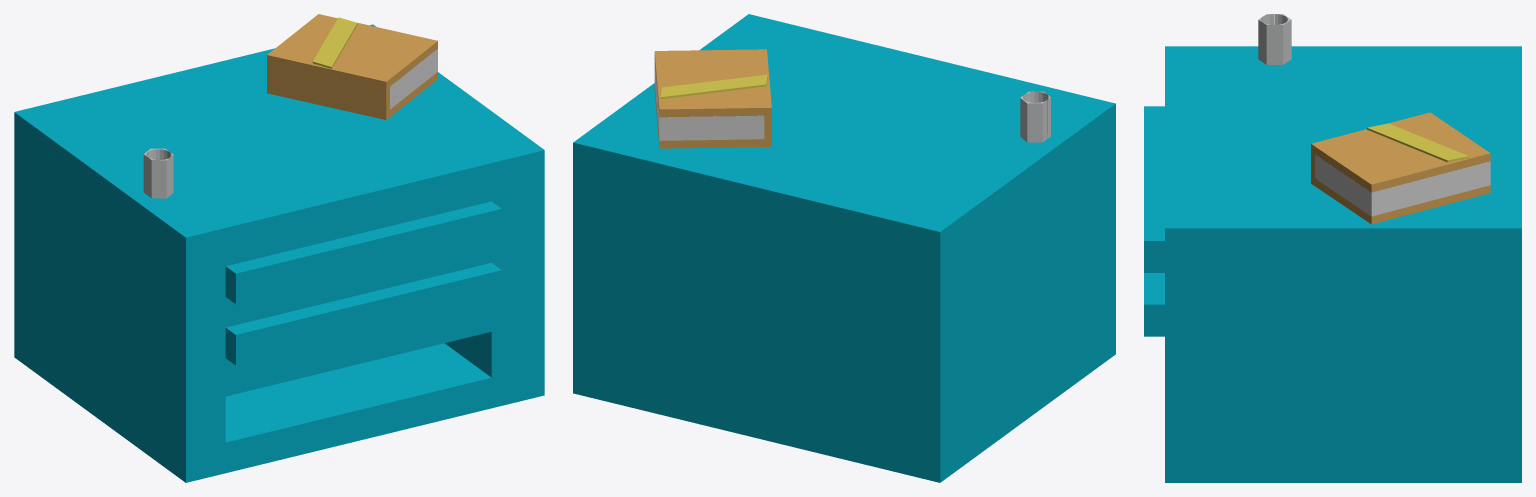
Rendered from Mighty Fyyran-Kasi.glb.
The picture shows the model from 3 angles, left to right: view 1: azimuth 30°, elevation 25°; view 2: azimuth 150°, elevation 25°; view 3: azimuth 270°, elevation 25°; orthographic projection. The views are drawn at different scales.
Visible parts, largest first — view 1: Mesh_Mesh_head_geo.001_lambert2SG.001; view 2: Mesh_Mesh_head_geo.001_lambert2SG.001; view 3: Mesh_Mesh_head_geo.001_lambert2SG.001.
Boxes of the visible parts, bbox=[...] form: Mesh_Mesh_head_geo.001_lambert2SG.001: bbox=[14, 14, 544, 482]; Mesh_Mesh_head_geo.001_lambert2SG.001: bbox=[573, 14, 1115, 482]; Mesh_Mesh_head_geo.001_lambert2SG.001: bbox=[1144, 14, 1521, 482].
Size of the model in its own units: 49 by 37.25 by 43.
